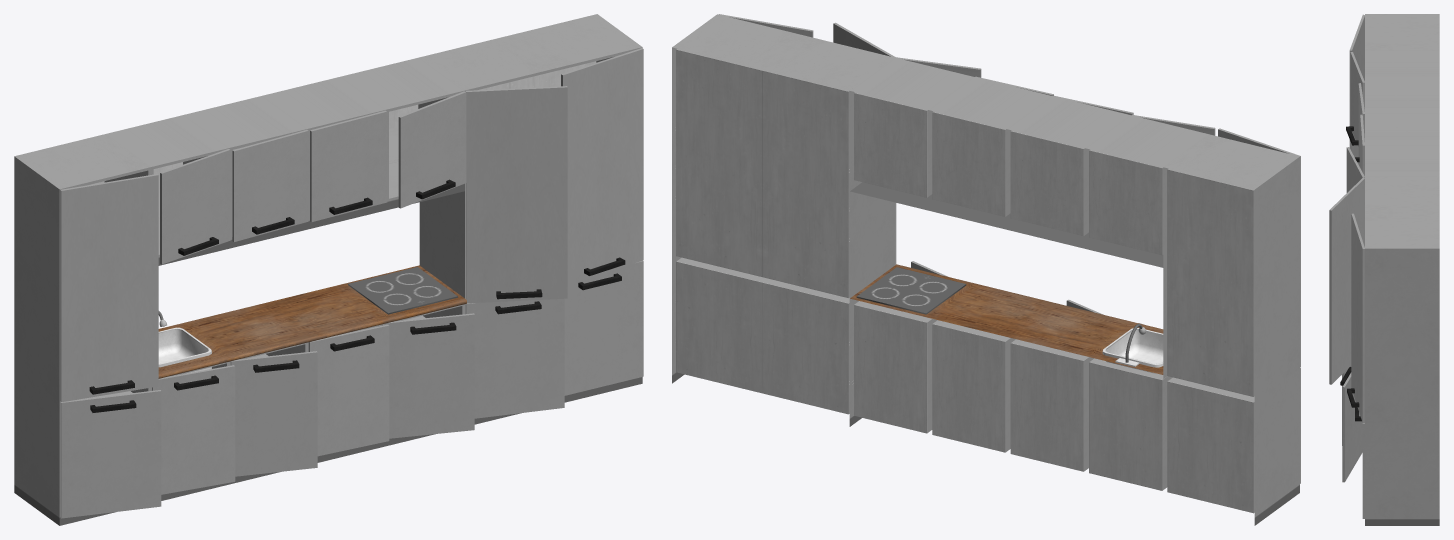
The model's file is kitchen01.fbx.
3 renders of one model, left to right at view 1: azimuth 30°, elevation 25°; view 2: azimuth 150°, elevation 25°; view 3: azimuth 270°, elevation 25°, orthographic. The views are drawn at different scales.
Parts seen in each view (by area): view 1: Cube.008, Cube.024, Cube.002, Cube.025, Cube.001, Cube.023, Cube.018, Cube.015, Cube.026, Cube.013, Cube.017, Cube.021 (+3 smaller); view 2: Cube.008, Cube.024; view 3: Cube.008, Cube.024, Cube.025, Cube.023, Cube.019, Cube.002, Cube.022, Cube.020, Cube.026, Cube.021.
Part boxes in pixels (x1,y1,x2,y2): Cube.008: [14, 14, 642, 525]; Cube.024: [466, 86, 567, 303]; Cube.002: [60, 174, 158, 402]; Cube.025: [561, 48, 643, 284]; Cube.001: [60, 390, 161, 518]; Cube.023: [465, 298, 564, 418]; Cube.018: [387, 313, 474, 438]; Cube.015: [230, 351, 317, 476]; Cube.026: [564, 260, 643, 395]; Cube.013: [152, 365, 235, 494]; Cube.017: [308, 324, 389, 456]; Cube.021: [310, 110, 387, 222]; Cube.008: [672, 14, 1299, 525]; Cube.024: [833, 22, 896, 264]; Cube.008: [1365, 14, 1439, 525]; Cube.024: [1329, 177, 1364, 384]; Cube.025: [1347, 213, 1364, 422]; Cube.023: [1340, 367, 1362, 482]; Cube.019: [1346, 52, 1364, 146]; Cube.002: [1349, 14, 1364, 166]; Cube.022: [1346, 147, 1364, 192]; Cube.020: [1355, 83, 1364, 167]; Cube.026: [1355, 402, 1364, 518]; Cube.021: [1360, 114, 1364, 176].
Bounding box in the file's own units: 446 × 246 × 88.79.
